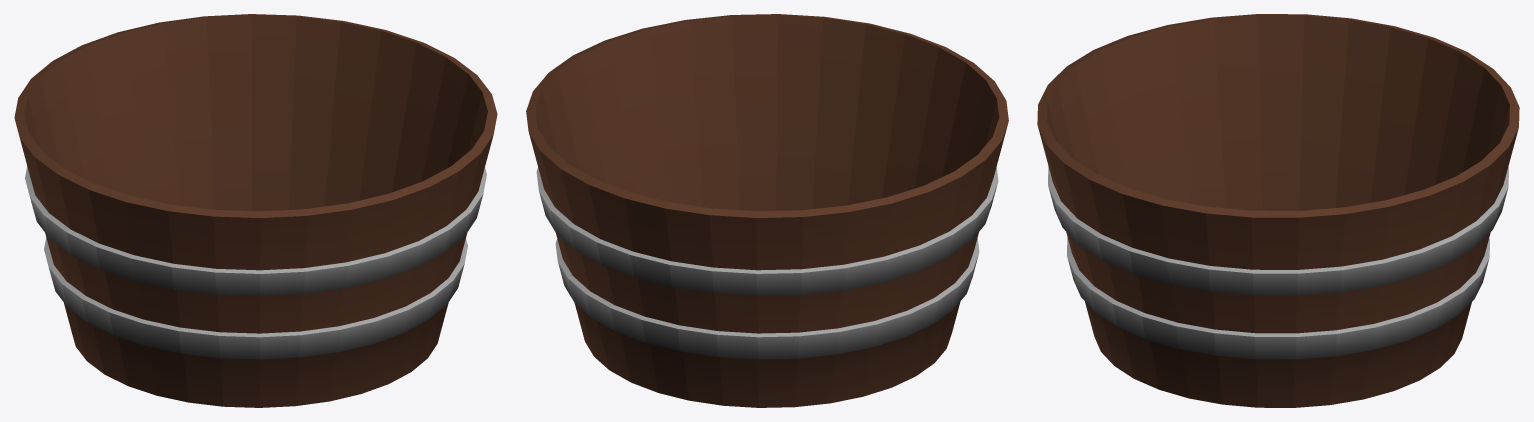
Rendered from Large Dark Wooden Bucket.fbx.
3 renders of one model, left to right at view 1: azimuth 30°, elevation 25°; view 2: azimuth 150°, elevation 25°; view 3: azimuth 270°, elevation 25°, orthographic.
Parts seen in each view (by area): view 1: Large Dark Wooden Tub/Bucket; view 2: Large Dark Wooden Tub/Bucket; view 3: Large Dark Wooden Tub/Bucket.
Part boxes in pixels (left/top/right/bottom): Large Dark Wooden Tub/Bucket: left=14, top=14, right=497, bottom=407; Large Dark Wooden Tub/Bucket: left=526, top=14, right=1008, bottom=407; Large Dark Wooden Tub/Bucket: left=1037, top=14, right=1519, bottom=407.
Bounding box in the file's own units: 207 × 416 × 416.
1 material, 1 textured.
